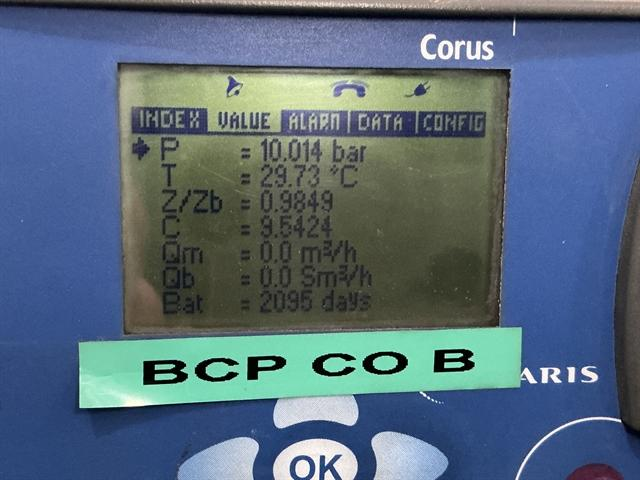digital_screen: (119, 58, 515, 334)
